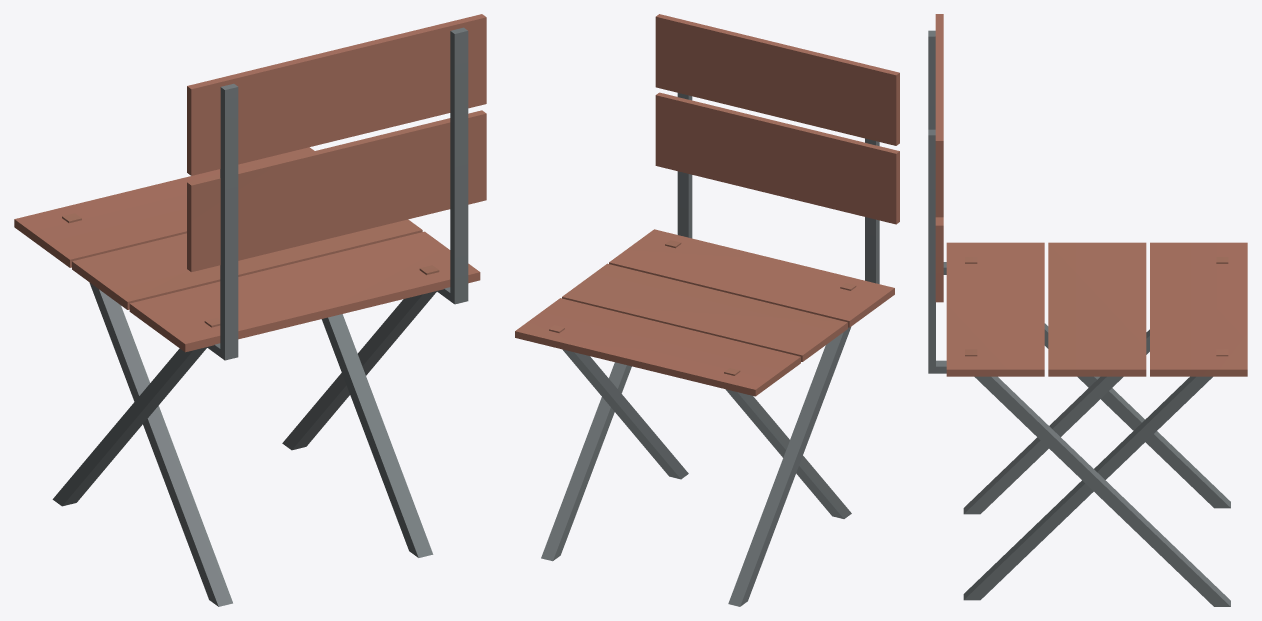
Rendered from SM_Chair_02.fbx.
3 views of the same model, side by side, from view 1: azimuth 30°, elevation 25°; view 2: azimuth 150°, elevation 25°; view 3: azimuth 270°, elevation 25° (orthographic). The views are drawn at different scales.
Parts seen in each view (by area): view 1: SM_Chair_02; view 2: SM_Chair_02; view 3: SM_Chair_02.
Part boxes in pixels (bbox=[...]): SM_Chair_02: bbox=[14, 14, 486, 606]; SM_Chair_02: bbox=[515, 14, 899, 606]; SM_Chair_02: bbox=[928, 14, 1247, 606].
Size of the model in its own units: 40.03 by 69.95 by 42.6.
Materials: 1 (1 with a texture image).
